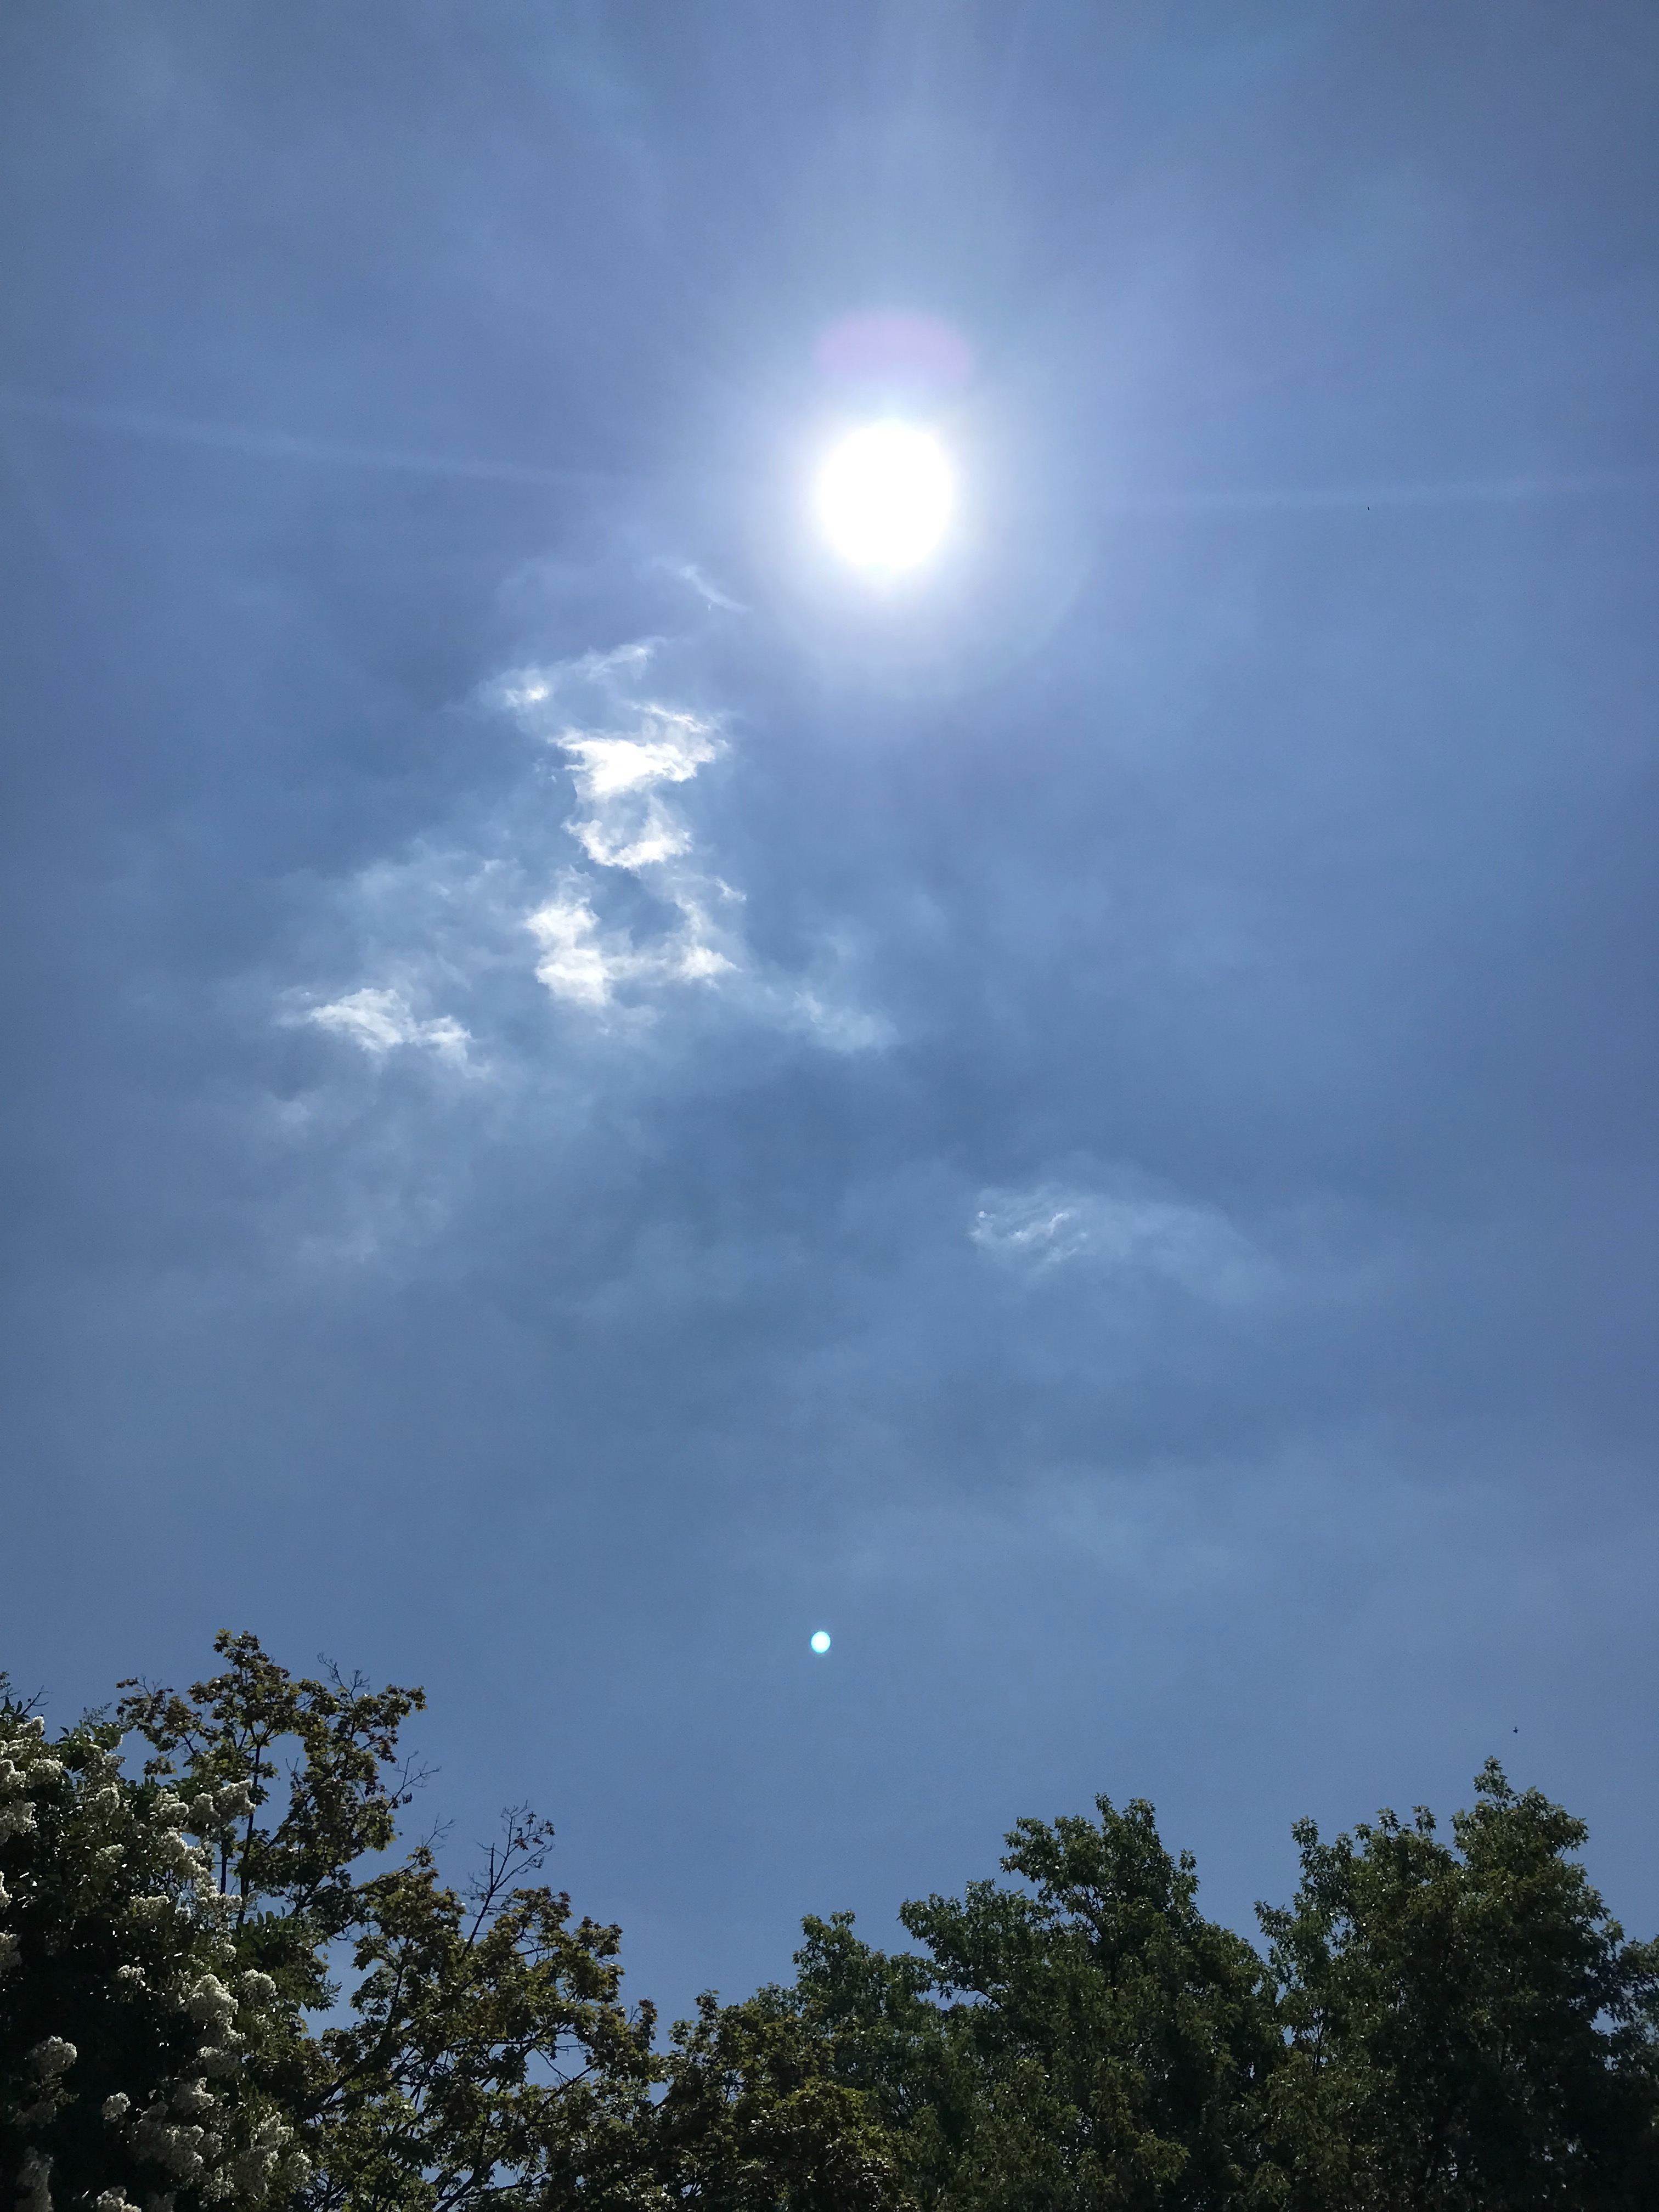flare: (809, 1629, 833, 1656)
